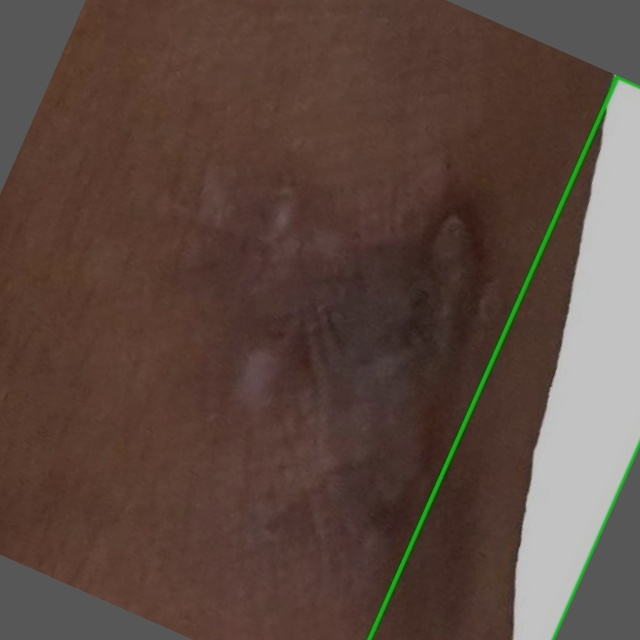Contact Dermatitis: (367, 76, 639, 639)
